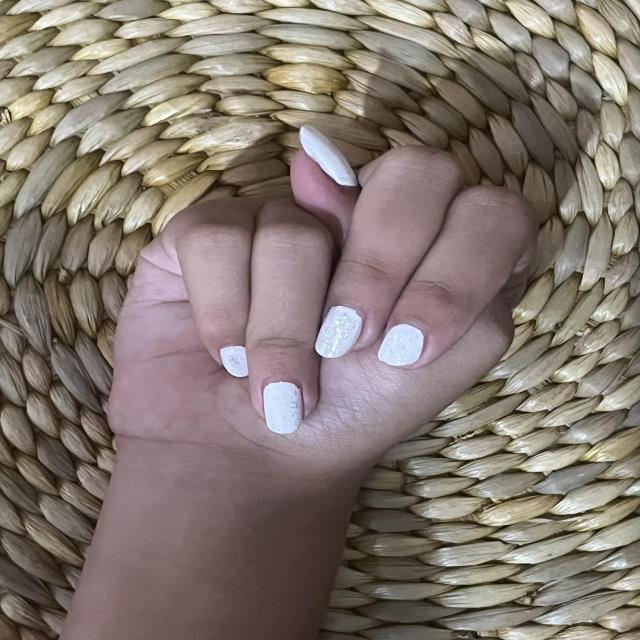N: (105, 118, 538, 464)
